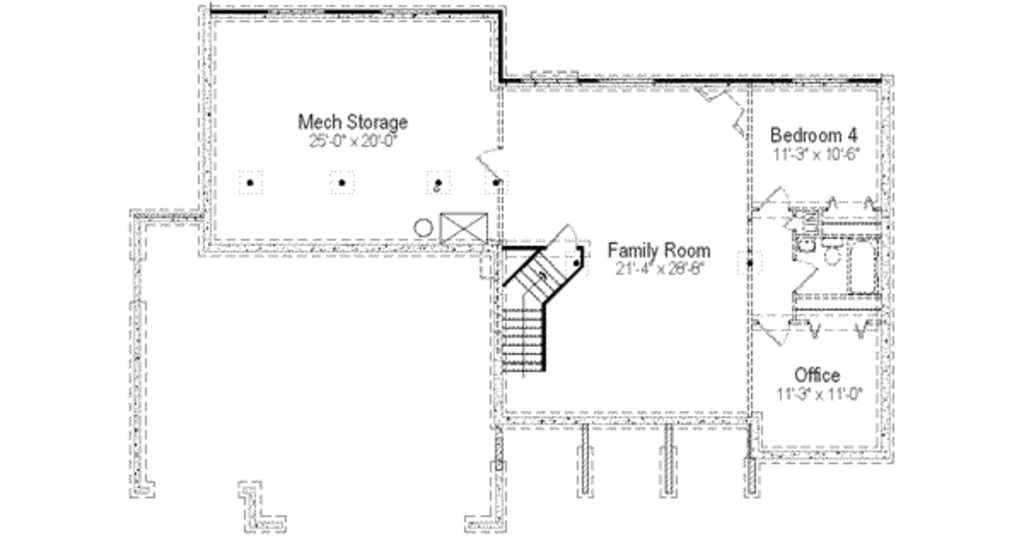door: (751, 183, 788, 225), (472, 146, 510, 185), (751, 312, 792, 348), (792, 256, 820, 296), (541, 219, 581, 244)
large_sink: (824, 238, 845, 272)
small_sink: (791, 233, 820, 259)
stairs: (503, 247, 594, 370)
tub: (842, 232, 885, 296)
